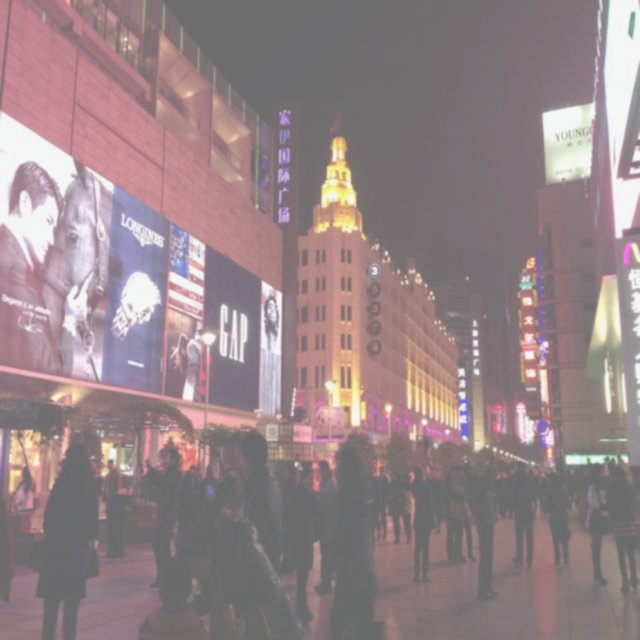pessoa: (193, 473, 309, 640), (34, 438, 100, 640), (322, 443, 379, 640), (142, 444, 182, 594), (466, 448, 502, 600), (288, 466, 322, 624), (609, 465, 640, 593), (313, 454, 339, 600), (508, 457, 539, 571), (585, 462, 612, 587), (314, 458, 338, 596), (448, 464, 478, 563), (412, 466, 436, 584), (544, 470, 572, 566), (442, 466, 468, 564), (361, 460, 379, 564), (196, 462, 225, 520), (84, 460, 102, 550), (178, 470, 197, 555), (262, 289, 282, 356), (102, 458, 120, 530), (389, 468, 406, 544), (14, 464, 37, 514), (596, 462, 640, 487), (376, 466, 390, 542), (428, 470, 444, 534), (568, 464, 588, 511), (401, 480, 414, 544), (418, 471, 428, 534), (142, 457, 156, 501), (502, 471, 514, 521), (538, 466, 552, 508), (493, 469, 504, 519), (528, 469, 537, 521), (508, 468, 517, 520), (540, 472, 550, 518), (182, 464, 196, 491), (316, 410, 329, 436), (556, 467, 569, 490), (282, 462, 296, 482), (550, 466, 557, 506), (464, 458, 478, 475), (194, 461, 202, 484), (609, 458, 616, 484), (222, 458, 234, 473), (538, 466, 546, 481), (617, 454, 625, 464), (436, 470, 442, 478), (604, 457, 610, 465), (586, 458, 592, 465)
